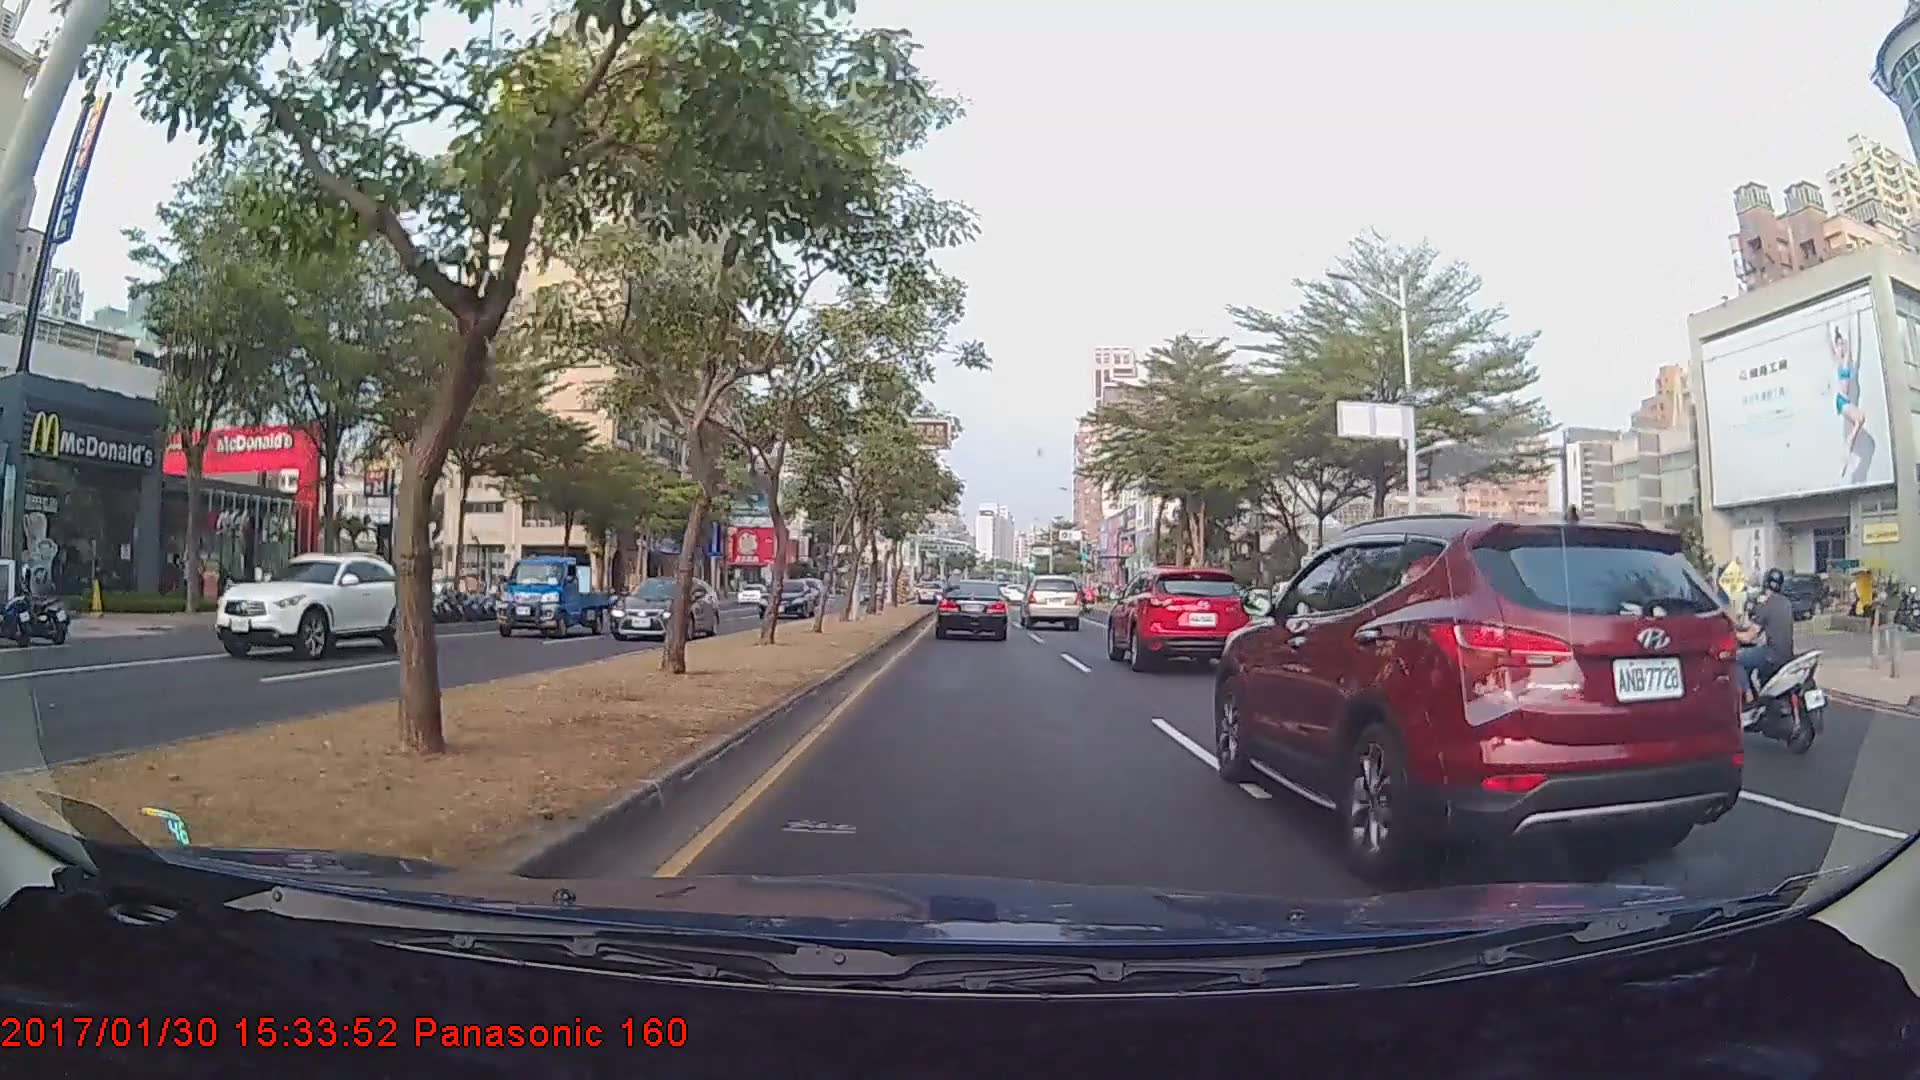rider: (1700, 566, 1827, 755)
vehicle: (1214, 523, 1747, 884), (211, 550, 415, 660), (1104, 565, 1255, 672), (495, 553, 615, 636), (611, 572, 719, 637), (935, 578, 1010, 641), (1021, 574, 1082, 631), (755, 578, 817, 618)
